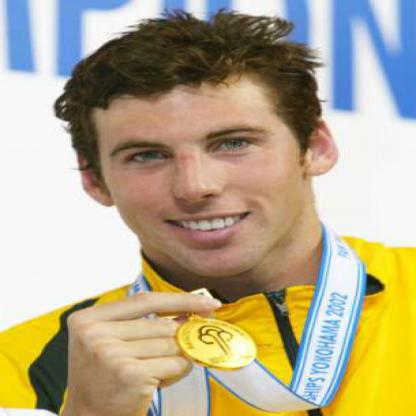face: (97, 29, 309, 280)
